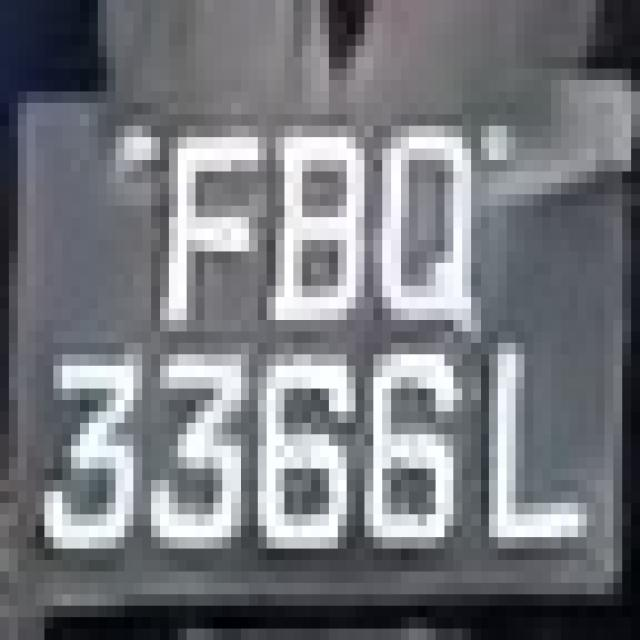3: (142, 297, 240, 583), (36, 308, 142, 572)
6: (240, 320, 356, 594), (347, 297, 453, 594)
B: (258, 91, 364, 332)
F: (151, 103, 258, 377)
L: (480, 320, 604, 583)
Q: (364, 114, 498, 354)
